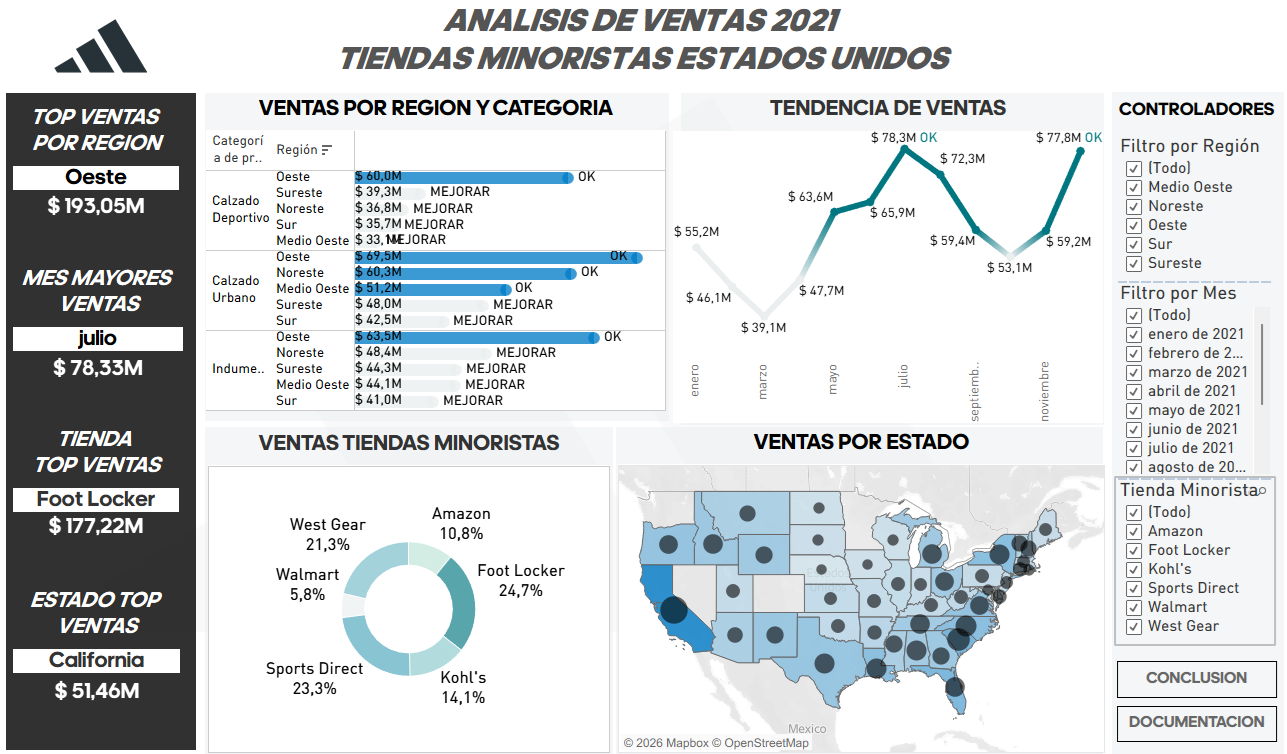

Layout of this report page (visuals, bound fields, positions):
{"tool":"tableau","page":{"name":"General","canvas":[1300,800],"ordinal":2},"visuals":[{"type":"worksheet","title":"Cajita","mark":"Automatic","box":[0,0,1300,800]},{"type":"text","box":[20,4,1256,90]},{"type":"image","param":"Image/adidas.png","box":[33,6,148,93]},{"type":"image","param":"Image/Fondo logo ADIDAS.png","box":[8,8,1124,784]},{"type":"worksheet","title":"Región/Categoría","mark":"Automatic","rows":["Product Category","Region"],"cols":["Total Sales","Total Sales"],"box":[212,101,460,329]},{"type":"worksheet","title":"Tendencia","mark":"Line","rows":["Total Sales"],"cols":["Invoice Date"],"box":[679,101,430,329]},{"type":"text","box":[1122,103,166,28]},{"type":"worksheet","title":"KPI","mark":"Automatic","cols":["Region"],"box":[15,106,183,161]},{"type":"filter","title":"Tendencia","param":"[federated.1pbkbk807rcdms13tyyyx01njby6].[none:Region:nk]","box":[1122,141,158,147]},{"type":"worksheet","title":"KPI4","mark":"Automatic","cols":["Invoice Date"],"box":[15,267,183,161]},{"type":"filter","title":"Tendencia","param":"[federated.1pbkbk807rcdms13tyyyx01njby6].[my:Invoice Date:ok]","box":[1122,288,158,197]},{"type":"worksheet","title":"KPI3","mark":"Automatic","cols":["Retailer"],"box":[15,428,183,161]},{"type":"worksheet","title":"Estados","mark":"Automatic","box":[624,435,487,325]},{"type":"worksheet","title":"Minoristas","mark":"Pie","rows":["Calculation_481885196023980034","Calculation_481885196024020996"],"box":[214,436,402,324]},{"type":"filter","title":"Región/Categoría","param":"[federated.1pbkbk807rcdms13tyyyx01njby6].[none:Retailer:nk]","box":[1122,485,158,166]},{"type":"worksheet","title":"KPI2","mark":"Automatic","cols":["State"],"box":[15,589,183,161]},{"type":"dashboard-object","box":[1119,664,168,45]},{"type":"dashboard-object","box":[1119,709,168,44]}]}

Visuals, with their boxes on the page's 1300x800 design canvas (x1, y1, x2, y2). These are canvas units, not pixel positions in the 1287x754 screenshot, which may show the page scaled, cropped or inside an application window:
"Cajita" worksheet: crop(0, 0, 1300, 800)
text: crop(20, 4, 1276, 94)
image: crop(33, 6, 181, 99)
image: crop(8, 8, 1132, 792)
"Región/Categoría" worksheet: crop(212, 101, 672, 430)
"Tendencia" worksheet (Line marks): crop(679, 101, 1109, 430)
text: crop(1122, 103, 1288, 131)
"KPI" worksheet: crop(15, 106, 198, 267)
"Tendencia" filter: crop(1122, 141, 1280, 288)
"KPI4" worksheet: crop(15, 267, 198, 428)
"Tendencia" filter: crop(1122, 288, 1280, 485)
"KPI3" worksheet: crop(15, 428, 198, 589)
"Estados" worksheet: crop(624, 435, 1111, 760)
"Minoristas" worksheet (Pie marks): crop(214, 436, 616, 760)
"Región/Categoría" filter: crop(1122, 485, 1280, 651)
"KPI2" worksheet: crop(15, 589, 198, 750)
dashboard-object: crop(1119, 664, 1287, 709)
dashboard-object: crop(1119, 709, 1287, 753)
